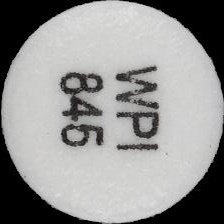61919-725: (0, 0, 224, 224)
